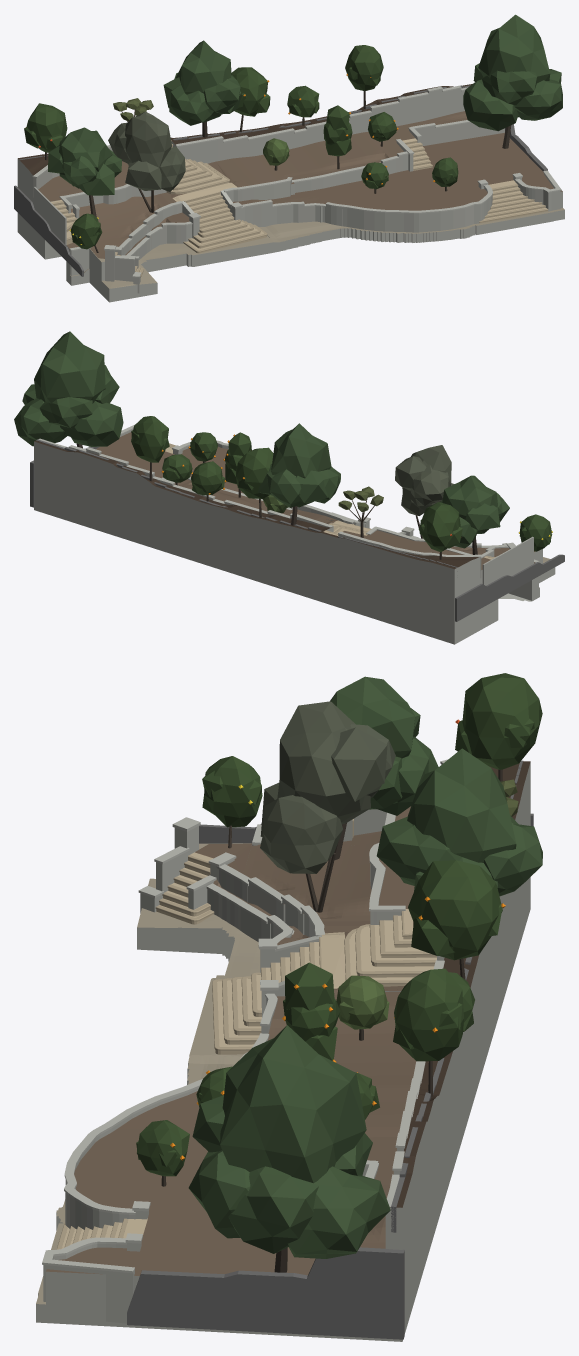
File: reconstruction-62741139d855.glb
The picture shows the model from 3 angles, top to bottom: view 1: azimuth 30°, elevation 25°; view 2: azimuth 150°, elevation 25°; view 3: azimuth 270°, elevation 25°; orthographic projection. The views are drawn at different scales.
Parts seen in each view (by area): view 1: ground-terraces, planting-tree-14, wall-wa, wall-we, planting-tree-03, planting-tree-01, wall-wb, planting-tree-02, flight-m1, nosing-m1, planting-tree-15, planting-tree-12 (+24 smaller); view 2: ground-terraces, planting-tree-14, planting-tree-03, planting-tree-01, planting-tree-02, slot-filler-west, planting-tree-15, planting-tree-12, planting-tree-04, cheek-w2-west, coping-we, planting-tree-11 (+8 smaller); view 3: ground-terraces, planting-tree-14, slot-filler-east, planting-tree-01, planting-tree-03, planting-tree-04, planting-tree-02, planting-tree-15, planting-tree-12, planting-tree-07, wall-wa, coping-wa (+17 smaller).
Part boxes in pixels (<box>): ground-terraces: <box>17,84,564,302</box>; planting-tree-14: <box>463,14,562,148</box>; wall-wa: <box>70,174,560,275</box>; wall-we: <box>177,88,464,163</box>; planting-tree-03: <box>163,40,241,137</box>; planting-tree-01: <box>108,111,185,212</box>; wall-wb: <box>121,122,504,255</box>; planting-tree-02: <box>48,127,121,216</box>; flight-m1: <box>173,187,266,253</box>; nosing-m1: <box>183,191,267,252</box>; planting-tree-15: <box>24,103,67,160</box>; planting-tree-12: <box>345,45,383,108</box>; ground-terraces: <box>34,432,555,644</box>; planting-tree-14: <box>14,331,123,448</box>; planting-tree-03: <box>258,423,340,525</box>; planting-tree-01: <box>395,445,454,538</box>; planting-tree-02: <box>440,475,509,554</box>; slot-filler-west: <box>455,554,564,621</box>; planting-tree-15: <box>418,502,462,559</box>; planting-tree-12: <box>131,416,169,481</box>; planting-tree-04: <box>236,447,273,517</box>; cheek-w2-west: <box>482,536,533,585</box>; coping-we: <box>38,438,333,527</box>; planting-tree-11: <box>191,461,224,501</box>; ground-terraces: <box>36,761,530,1341</box>; planting-tree-14: <box>188,1025,390,1272</box>; slot-filler-east: <box>127,1247,404,1339</box>; planting-tree-01: <box>260,701,395,912</box>; planting-tree-03: <box>376,748,542,896</box>; planting-tree-04: <box>408,860,505,979</box>; planting-tree-02: <box>330,676,438,860</box>; planting-tree-15: <box>455,673,542,781</box>; planting-tree-12: <box>393,968,463,1097</box>; planting-tree-07: <box>282,962,340,1062</box>; wall-wa: <box>43,844,291,1323</box>; coping-wa: <box>42,824,294,1273</box>.
Bounding box in the file's own units: 34.14 × 10.57 × 14.85.
